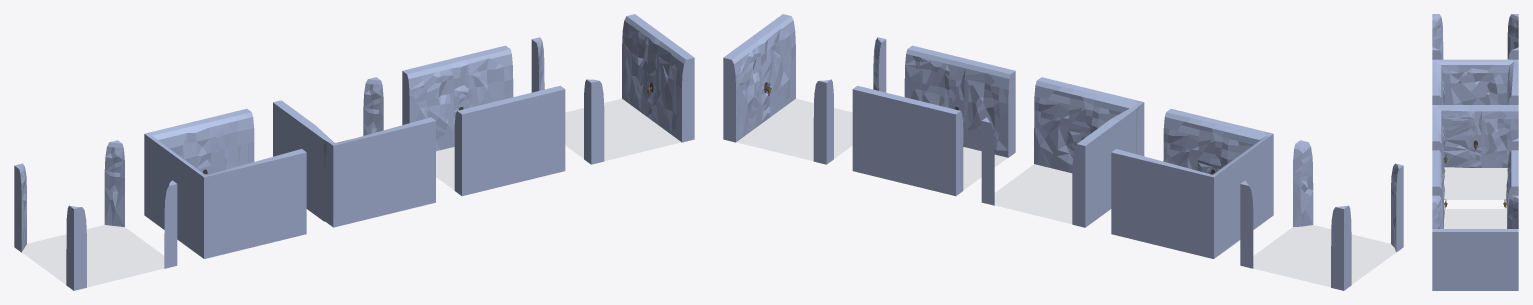
File: labirintus_darabok 1.fbx
3 renders of one model, left to right at view 1: azimuth 30°, elevation 25°; view 2: azimuth 150°, elevation 25°; view 3: azimuth 270°, elevation 25°, orthographic. The views are drawn at different scales.
Visible parts, largest first — view 1: Plane.003, Cube.005, Plane.066, Cube.011, Plane.054, 4Es_oszto.001, 3AsElOszto, Egyenes.001; view 2: Plane.003, Cube.005, Plane.066, Cube.011, Plane.054, 4Es_oszto.001, 3AsElOszto, 2EsElOszto, Egyenes.001; view 3: Cube.011, Plane.066, Plane.003, 2EsElOszto, Egyenes.001, Cube.005, Plane.054.
Boxes of the visible parts, bbox=[...] form: Plane.003: bbox=[144, 108, 306, 258]; Cube.005: bbox=[402, 45, 565, 196]; Plane.066: bbox=[273, 77, 435, 227]; Cube.011: bbox=[531, 14, 694, 164]; Plane.054: bbox=[14, 140, 177, 290]; 4Es_oszto.001: bbox=[22, 225, 164, 287]; 3AsElOszto: bbox=[565, 98, 681, 161]; Egyenes.001: bbox=[436, 147, 454, 190]; Plane.003: bbox=[1111, 108, 1273, 258]; Cube.005: bbox=[852, 45, 1015, 196]; Plane.066: bbox=[981, 77, 1144, 227]; Cube.011: bbox=[723, 14, 886, 164]; Plane.054: bbox=[1240, 140, 1403, 290]; 4Es_oszto.001: bbox=[1253, 225, 1396, 287]; 3AsElOszto: bbox=[736, 98, 852, 161]; 2EsElOszto: bbox=[994, 164, 1072, 224]; Egyenes.001: bbox=[963, 147, 1007, 190]; Cube.011: bbox=[1432, 195, 1518, 290]; Plane.066: bbox=[1432, 105, 1518, 182]; Plane.003: bbox=[1432, 59, 1518, 104]; 2EsElOszto: bbox=[1444, 167, 1507, 199]; Egyenes.001: bbox=[1444, 209, 1506, 228]; Cube.005: bbox=[1432, 150, 1518, 228]; Plane.054: bbox=[1432, 14, 1518, 59].
Size of the model in its own units: 4800 by 604 by 800.
